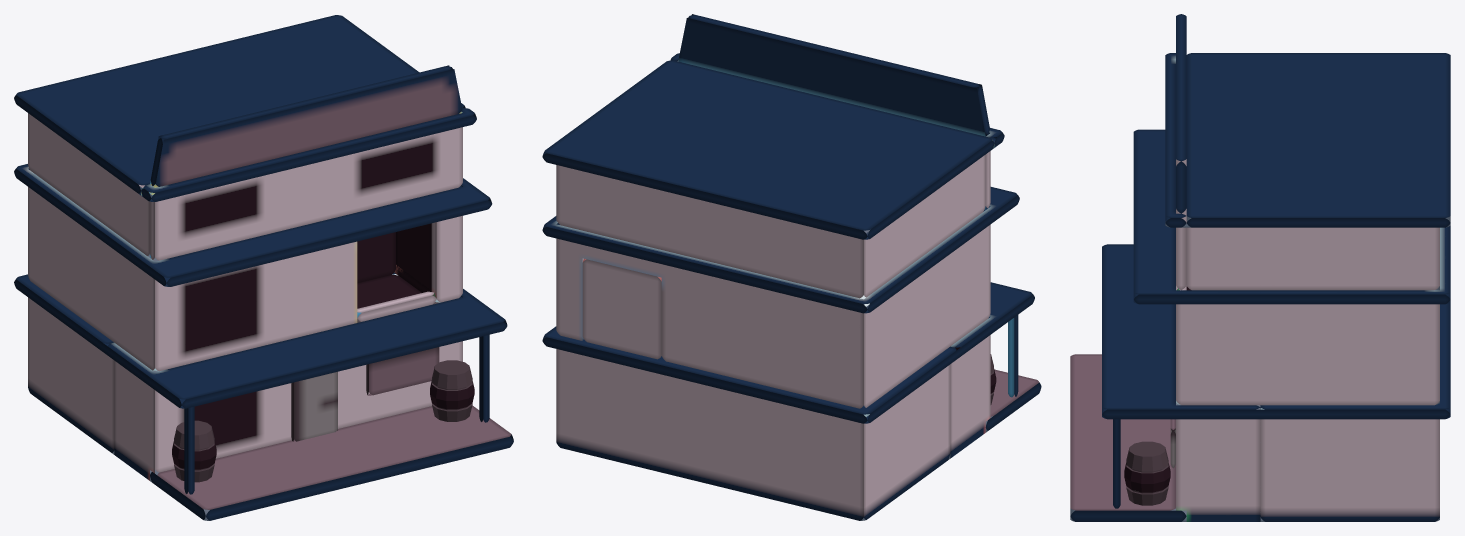
File: town hall.obj
3 views of the same model, side by side, from view 1: azimuth 30°, elevation 25°; view 2: azimuth 150°, elevation 25°; view 3: azimuth 270°, elevation 25° (orthographic). The views are drawn at different scales.
Parts seen in each view (by area): view 1: building, door, barrel, bulletin_board, barrel_2, pillar_1, pillar_2; view 2: building, pillar_1; view 3: building, barrel, pillar_2.
Part boxes in pixels (x1,y1,x2,y2): building: [14, 15, 513, 520]; door: [291, 371, 337, 441]; barrel: [430, 360, 474, 421]; bulletin_board: [366, 347, 439, 395]; barrel_2: [172, 420, 216, 482]; pillar_1: [184, 406, 194, 494]; pillar_2: [479, 334, 489, 422]; building: [542, 14, 1041, 520]; pillar_1: [1008, 315, 1018, 397]; building: [1070, 14, 1450, 521]; barrel: [1124, 441, 1170, 505]; pillar_2: [1113, 419, 1120, 508].
Bounding box in the file's own units: 2.31 × 2.32 × 2.25.
Materials: 3 (3 with a texture image).
